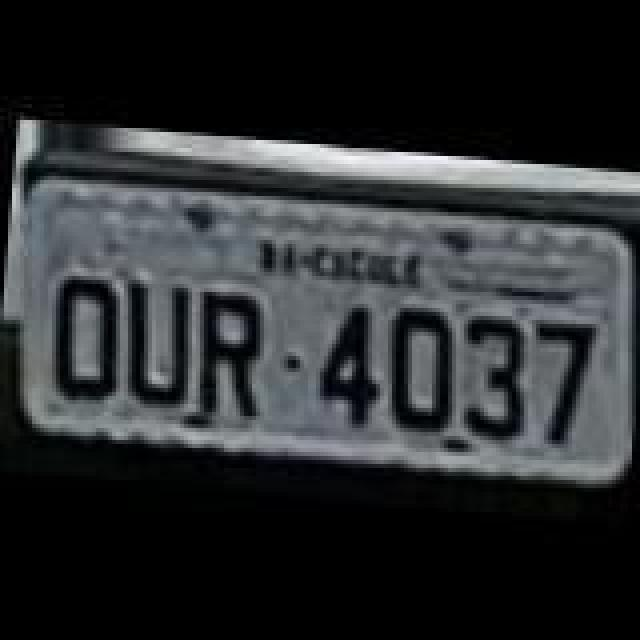3: (450, 310, 534, 442)
4: (312, 294, 392, 426)
7: (514, 310, 606, 450)
O: (46, 268, 130, 404), (382, 304, 458, 432)
R: (186, 284, 270, 420)
U: (114, 276, 206, 412)
